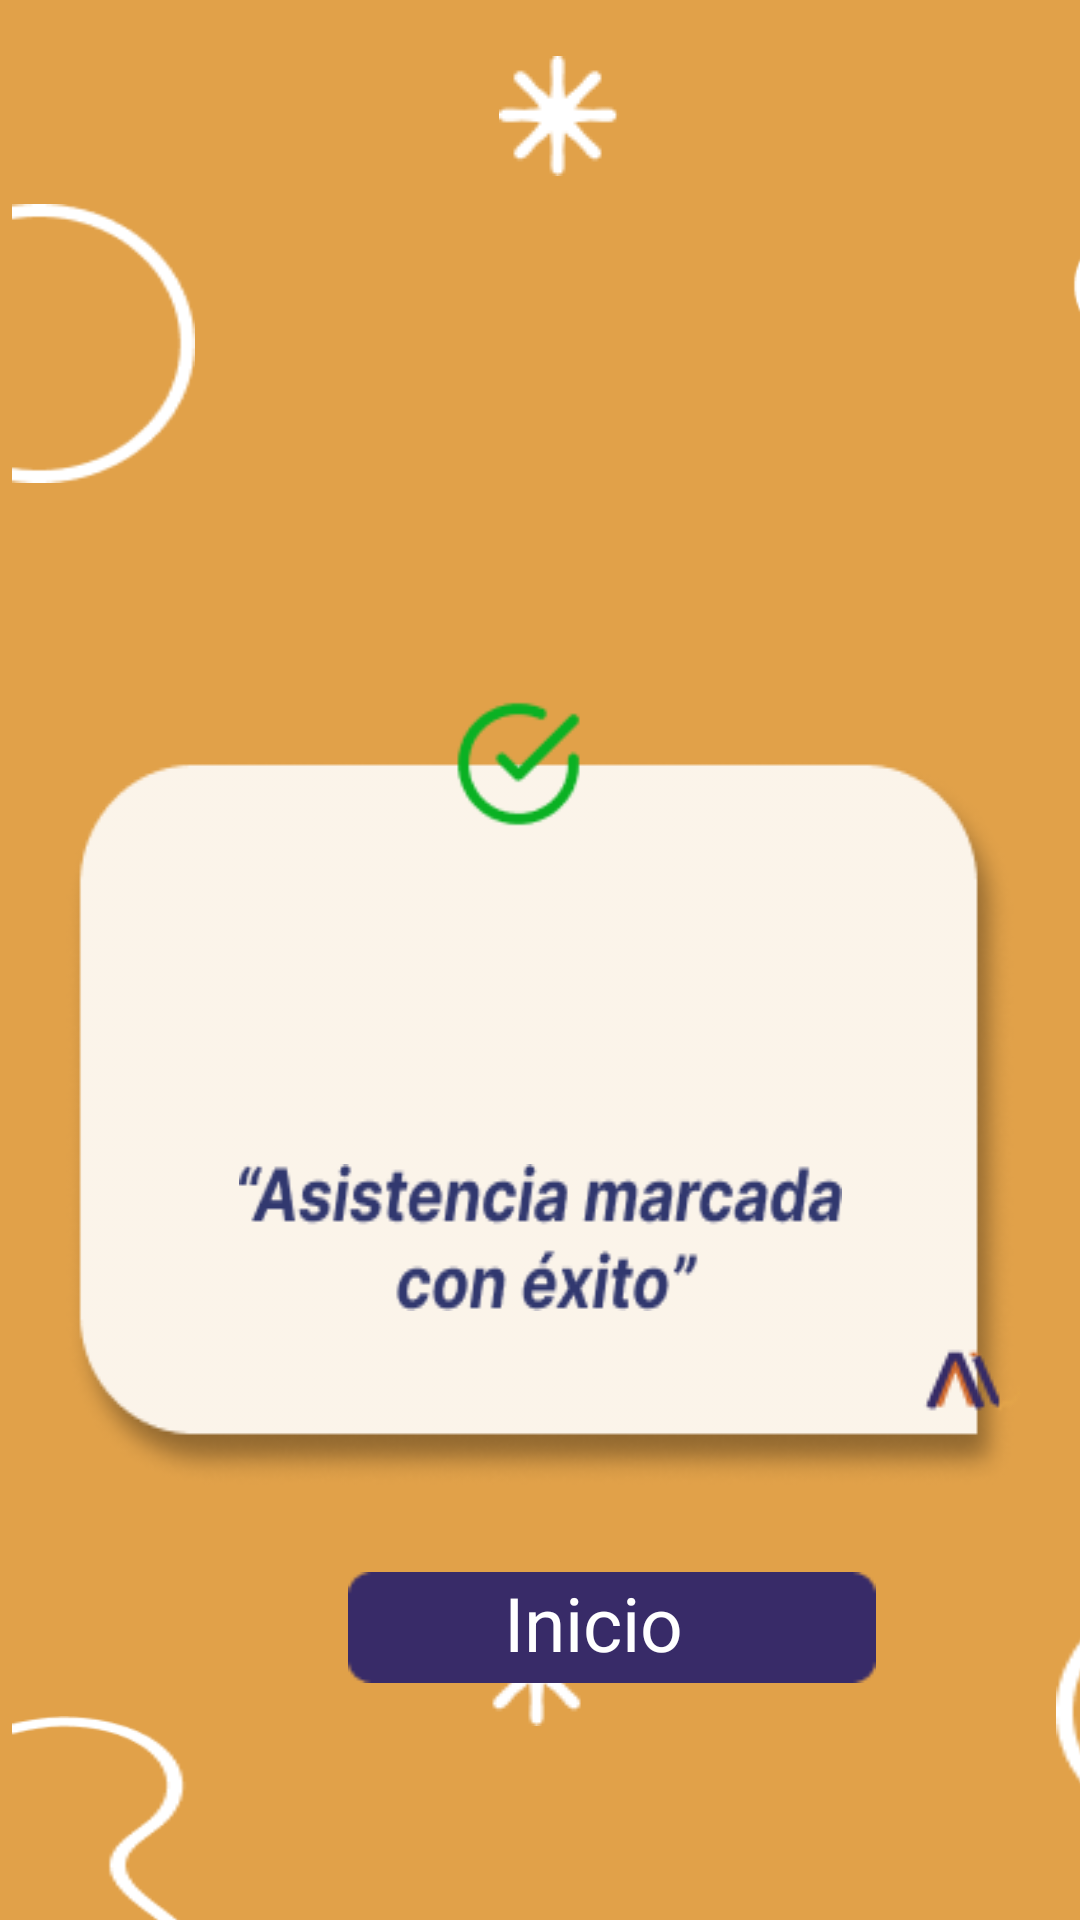

Point at icon controls on the screen. Image size 1080*1920, points as (x=x, y=y).
check: (x=518, y=764)
